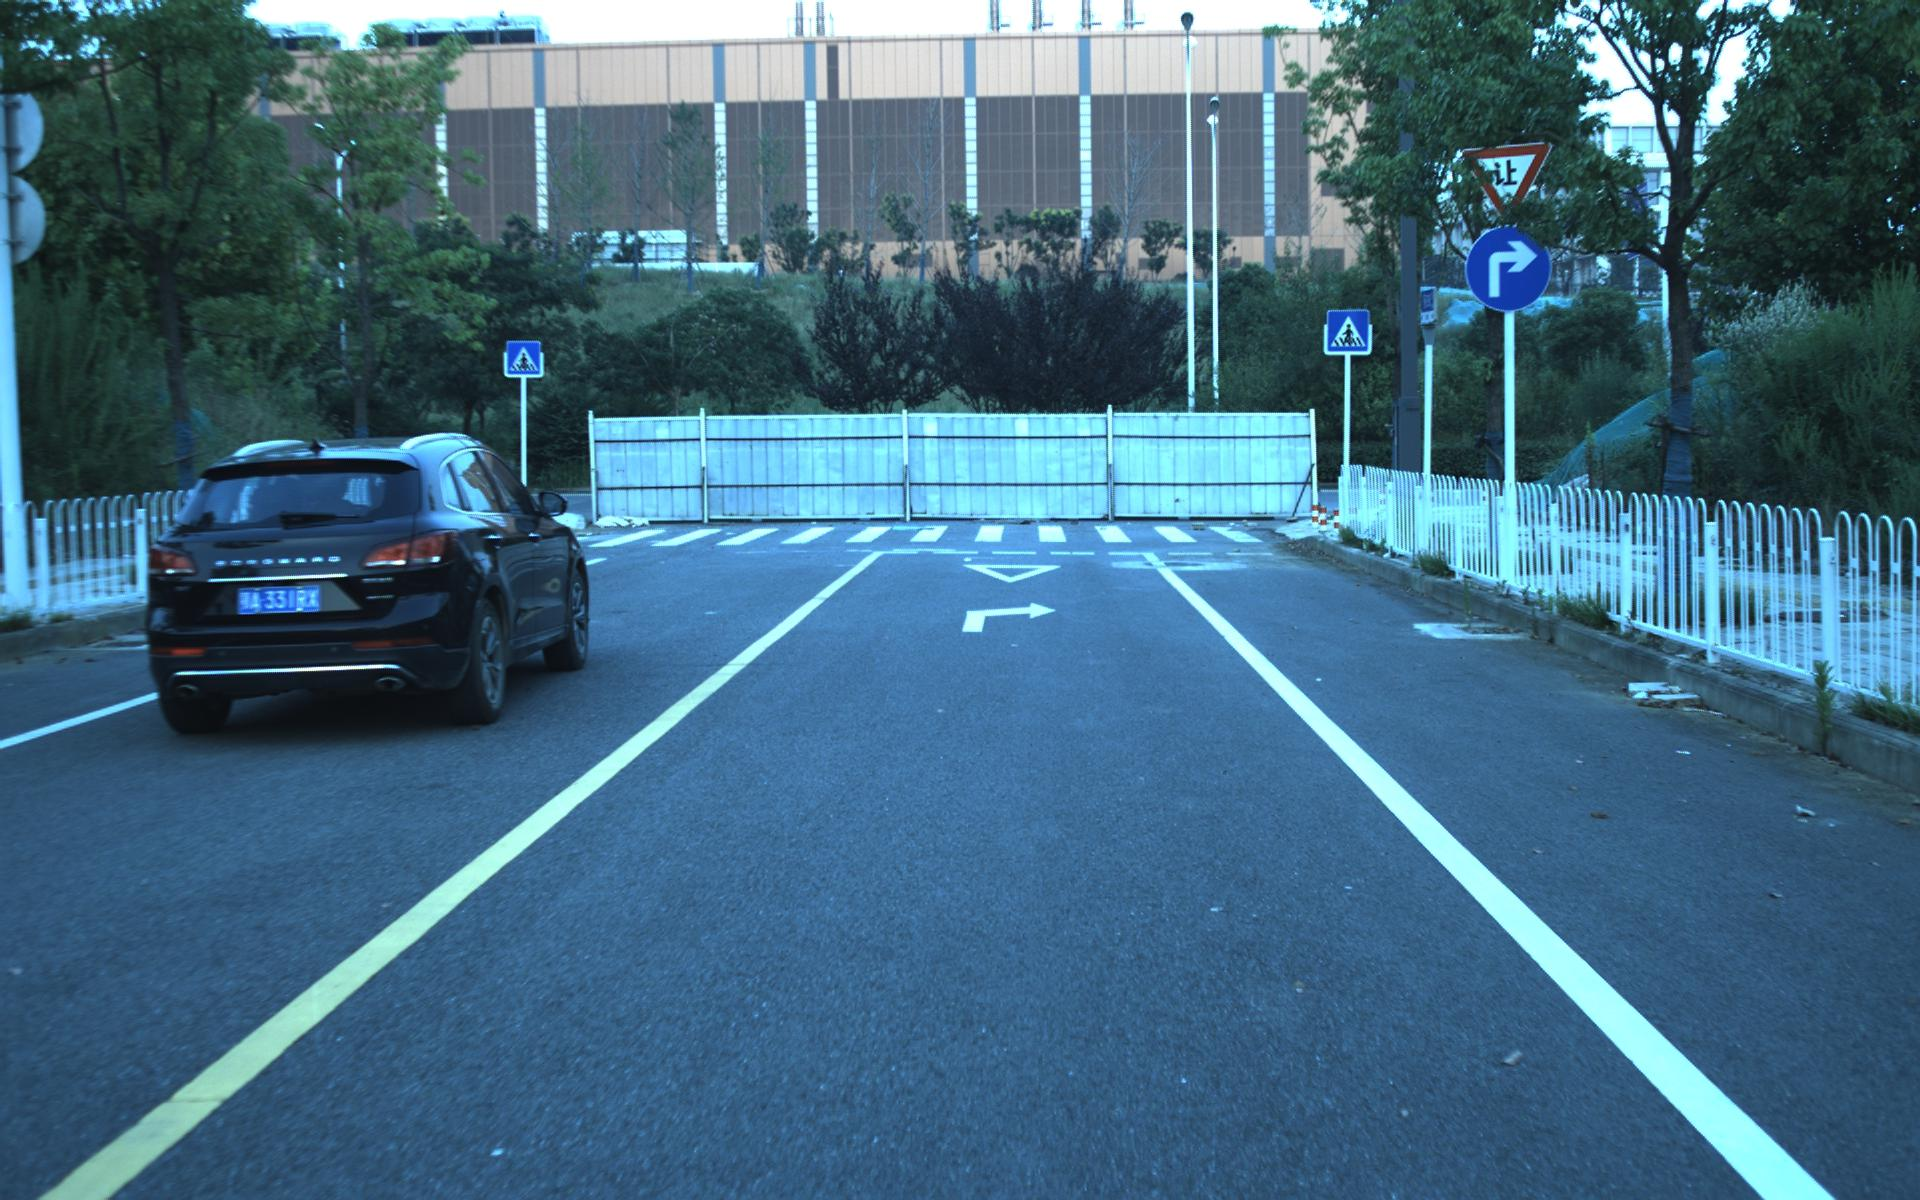Car: (126, 422, 600, 740)
